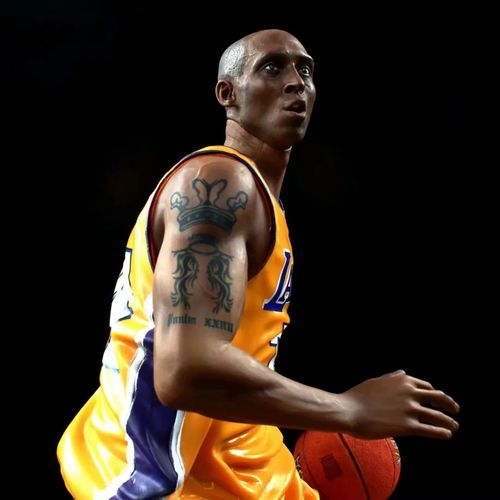ball: (293, 410, 401, 500)
